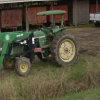Tractor: (2, 12, 79, 75)
